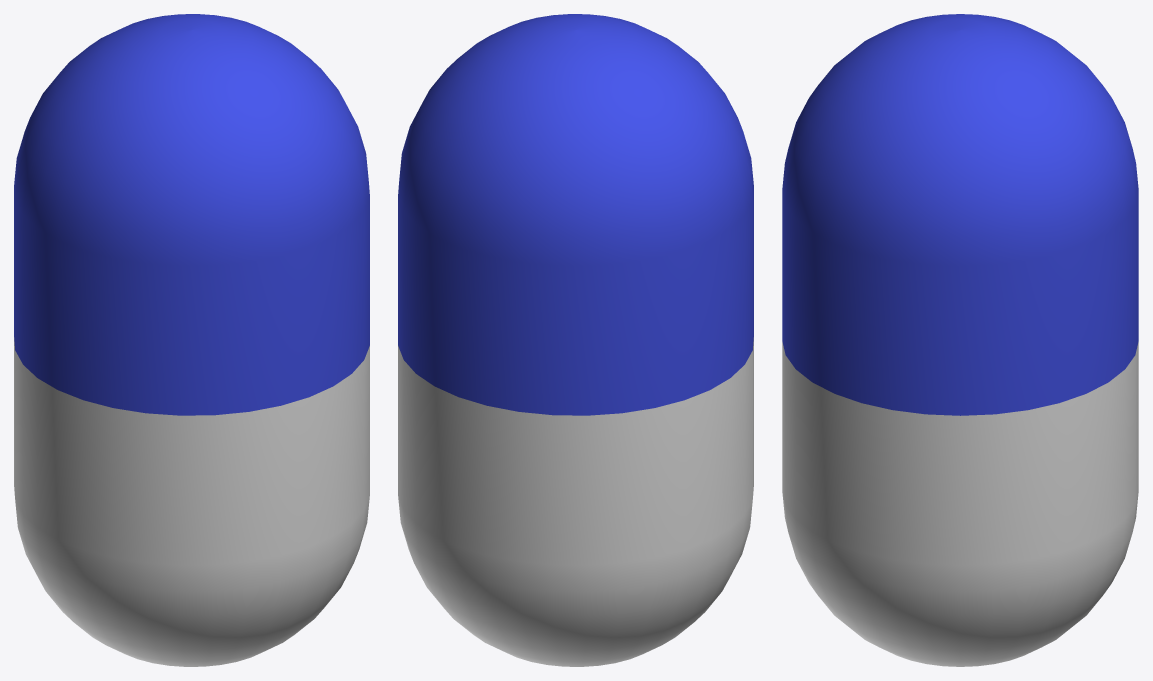
The model's file is Pill.fbx.
The picture shows the model from 3 angles, left to right: view 1: azimuth 30°, elevation 25°; view 2: azimuth 150°, elevation 25°; view 3: azimuth 270°, elevation 25°; orthographic projection.
Parts seen in each view (by area): view 1: Cylinder; view 2: Cylinder; view 3: Cylinder.
Boxes of the visible parts, box(x1,y1,x2,y2) form: Cylinder: box(14, 14, 369, 666); Cylinder: box(398, 14, 753, 666); Cylinder: box(782, 14, 1138, 666).
Size of the model in its own units: 200 by 384 by 200.
